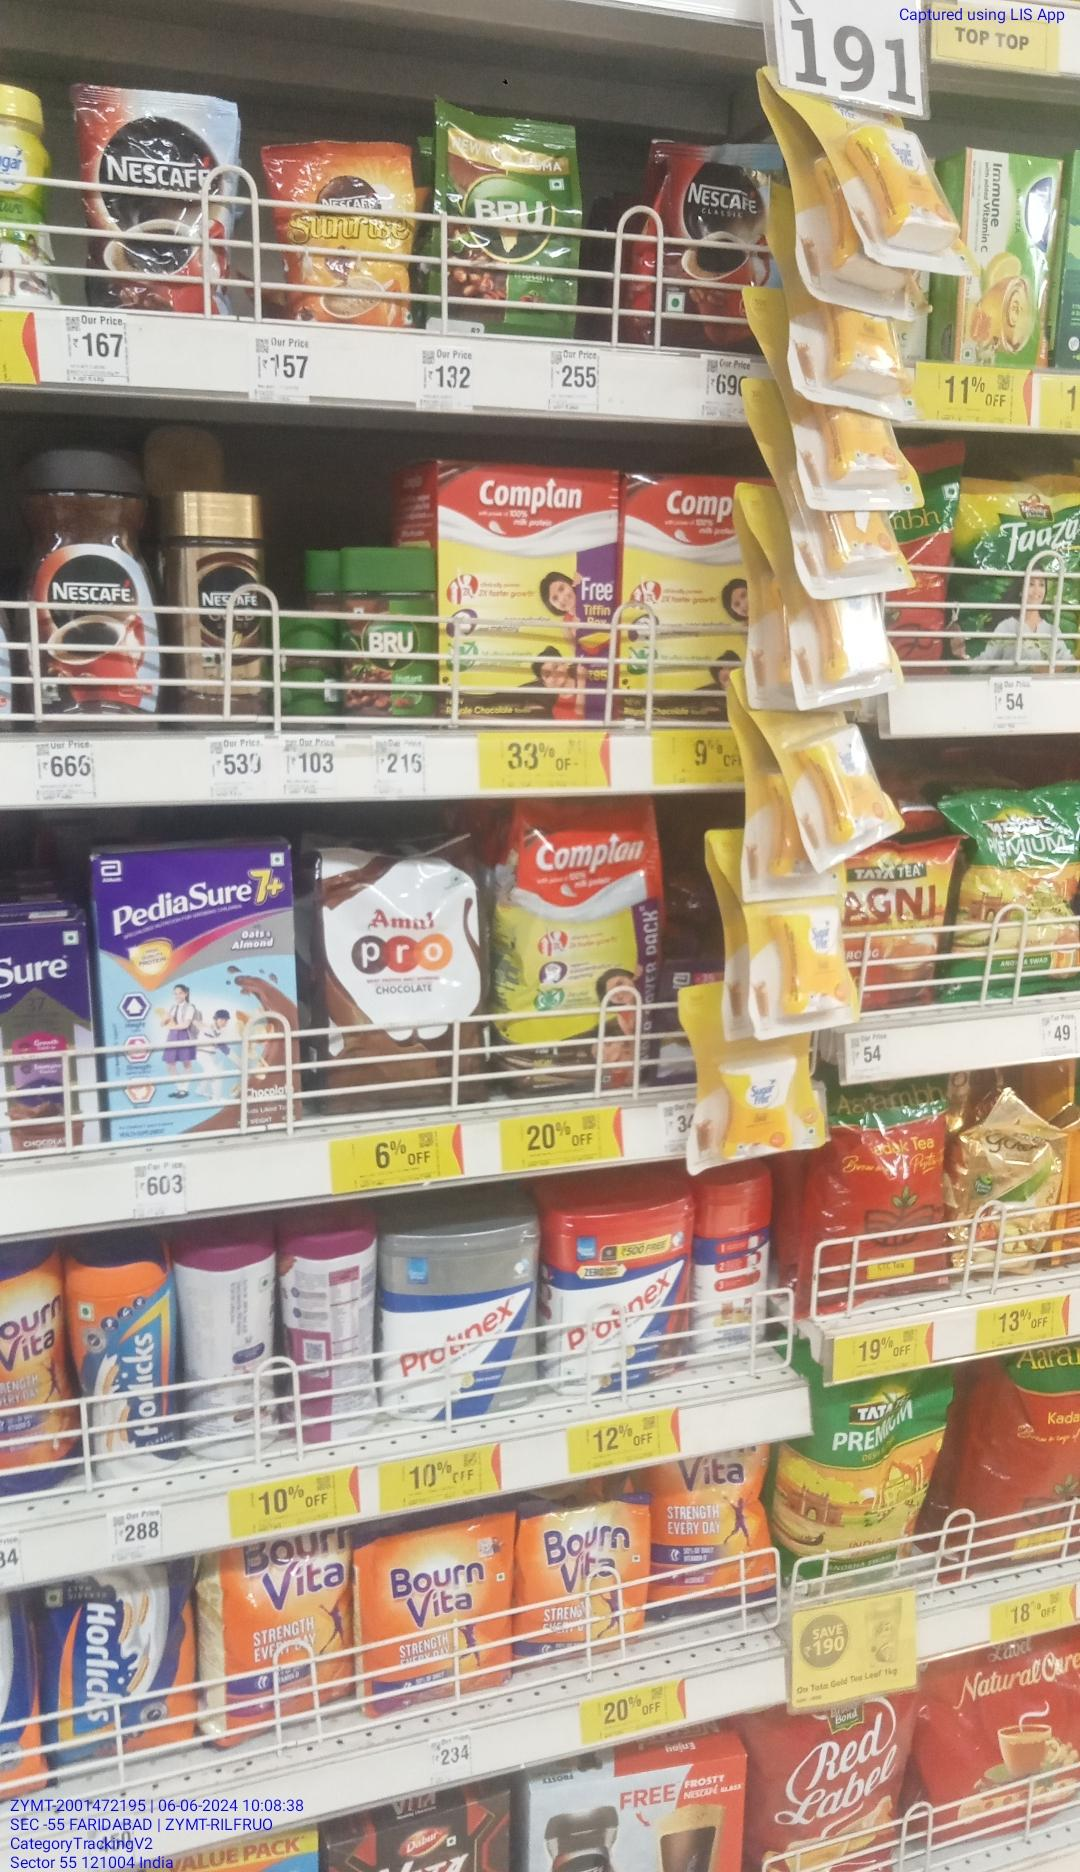BOURN_VITA_1_KG_JAR: (0, 1250, 76, 1489)
BOURN_VITA_500_G_POUCH: (220, 1547, 350, 1727), (661, 1462, 786, 1621)
BOURN_VITA_75_G_POUCH: (355, 1524, 507, 1692), (516, 1515, 638, 1651)
COMPLAN_CHOCOLATE_200_GMS_PACK: (437, 465, 617, 726), (622, 476, 730, 729)
COMPLAN_RC_POUCH_700_GMS_12: (494, 797, 666, 1092)
PROTINEX_ORIGINAL_400_G_JAR: (382, 1237, 532, 1416)
